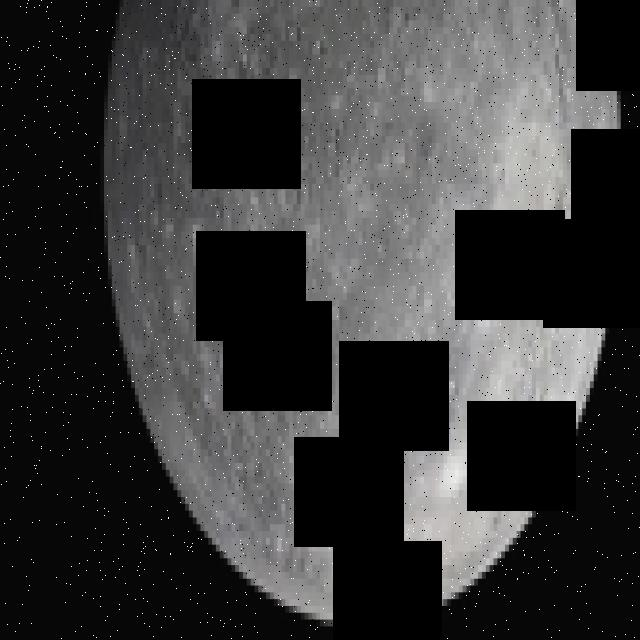Mercury: (100, 0, 620, 633)
